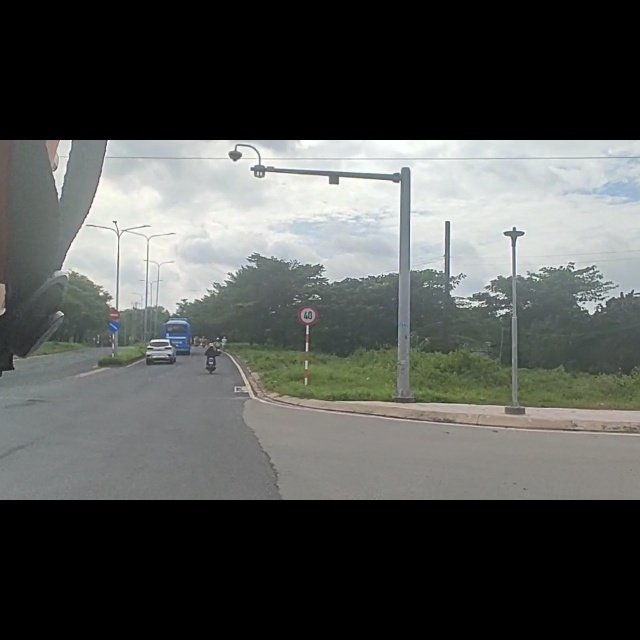bien_cam: (297, 290, 321, 331), (105, 322, 124, 345), (106, 299, 121, 322)
